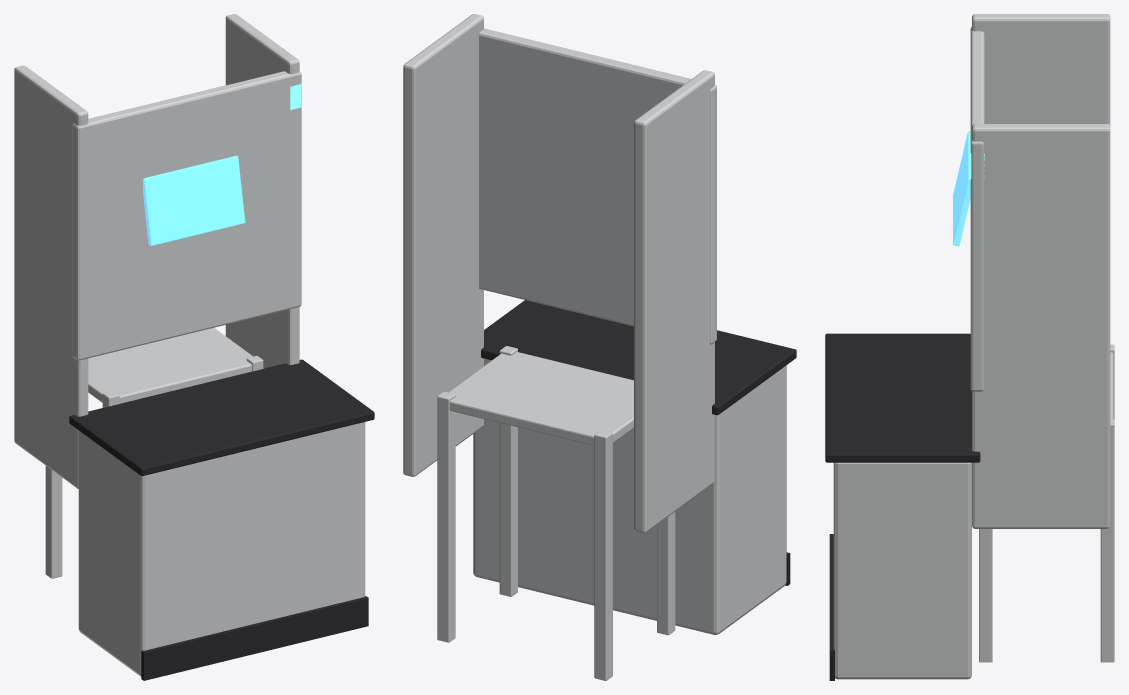
The model's file is autostore_port.glb.
The picture shows the model from 3 angles, left to right: view 1: azimuth 30°, elevation 25°; view 2: azimuth 150°, elevation 25°; view 3: azimuth 270°, elevation 25°; orthographic projection. The views are drawn at different scales.
Parts seen in each view (by area): view 1: AutoStorePort_Frame, AutoStorePort_Screen; view 2: AutoStorePort_Frame; view 3: AutoStorePort_Frame, AutoStorePort_Screen.
Boxes of the visible parts, <box> form: AutoStorePort_Frame: <box>14,14,374,680</box>; AutoStorePort_Screen: <box>143,155,245,245</box>; AutoStorePort_Frame: <box>403,14,796,680</box>; AutoStorePort_Frame: <box>825,14,1114,680</box>; AutoStorePort_Screen: <box>953,131,970,246</box>.
Bounding box in the file's own units: 1.04 × 2.2 × 1.04.
